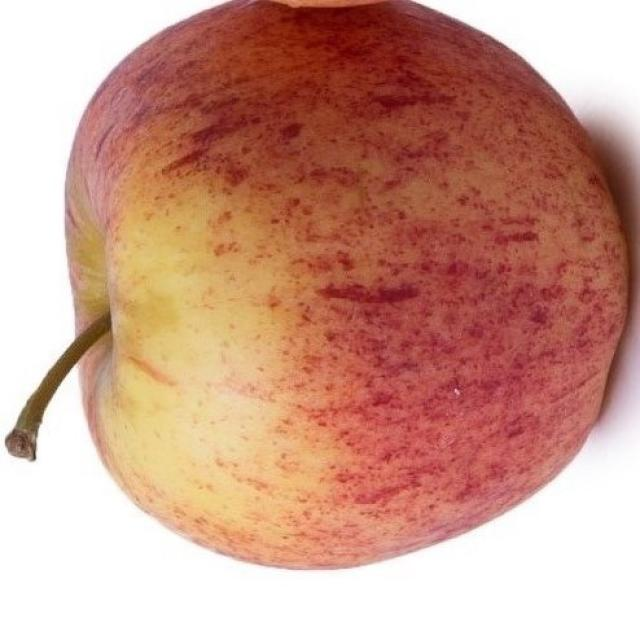75-_ripeness: (62, 0, 627, 567)
